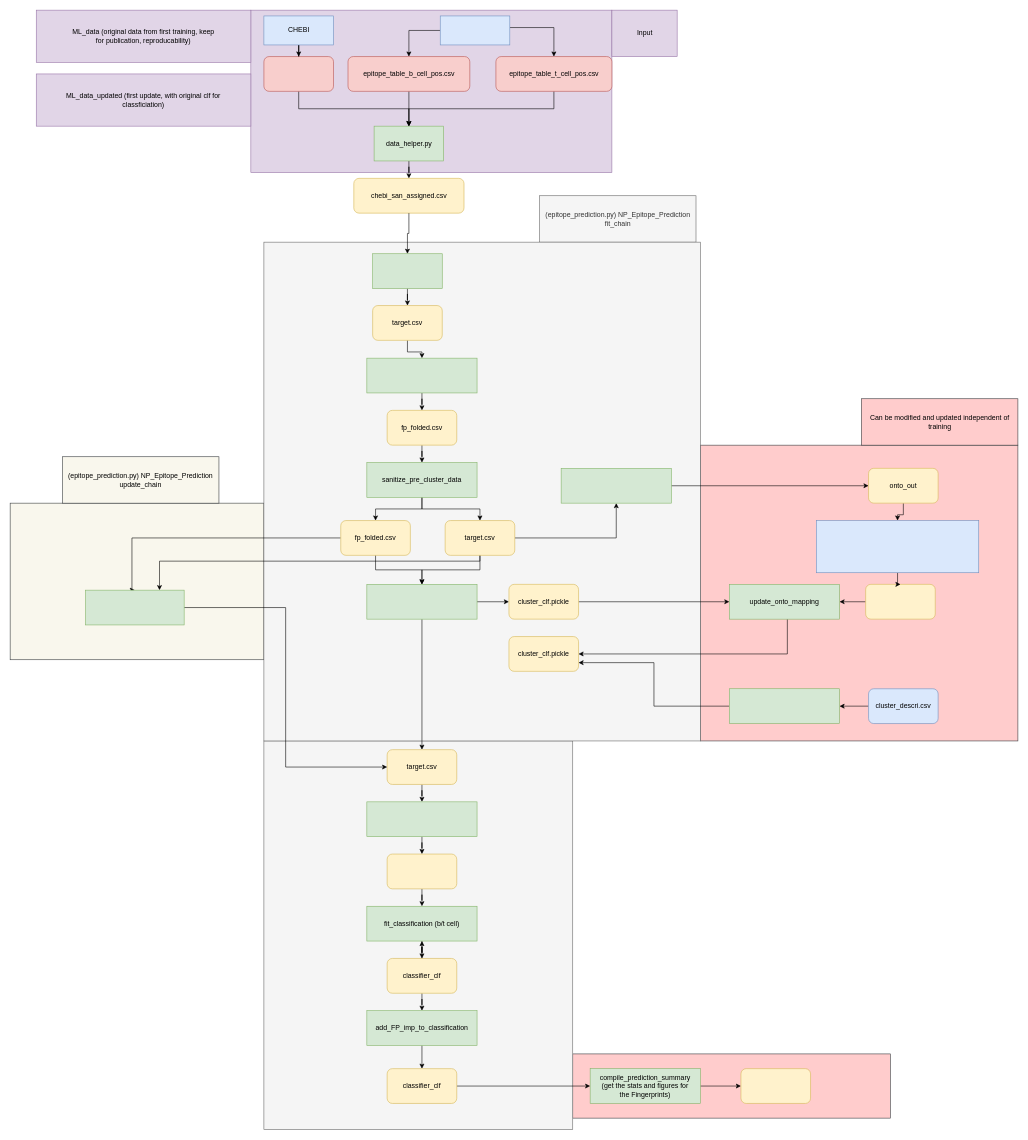
This 1028x1140 diagram has some shape labels left out. Here are the shapes that lost their labels. From the top down, the centre of each, then its label:
At point 475,30: "IEDB".
At point 298,73: "ChEBI_lite_3star.sdf".
At point 407,271: "load_target".
At point 421,375: "compile_pre_cluster_FPs".
At point 616,485: "get_IDs_for_onto_mapping".
At point 897,546: "update via BINCHI".
At point 134,607: "predict_clustering_bulk".
At point 421,601: "fit_clustering".
At point 900,601: "onto_in".
At point 784,706: "update_cluster_descri".
At point 421,819: "compile_cluster_FPs".
At point 422,871: "unfolded_fps".
At point 775,1085: "predictor_summary".
